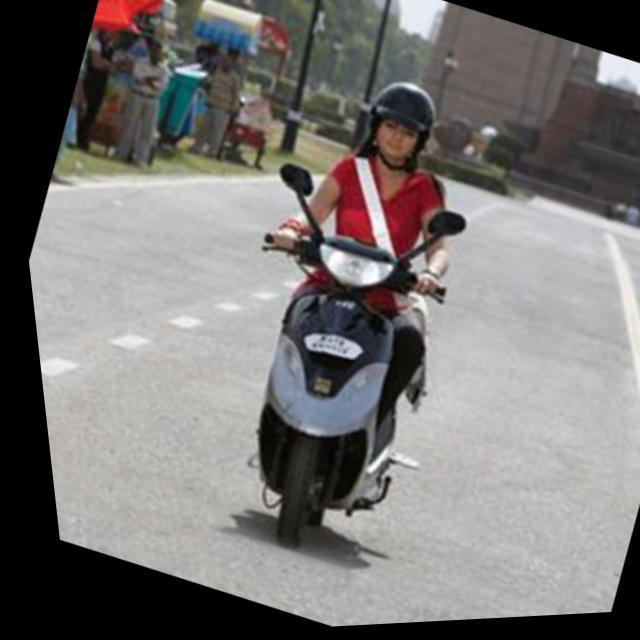Helmet: (352, 79, 439, 180)
